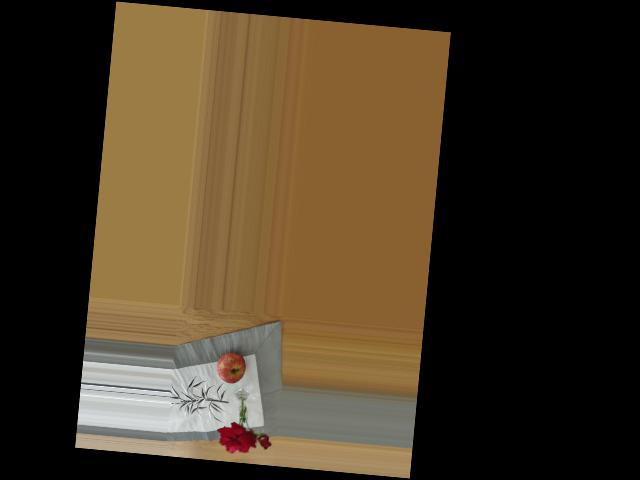apple: (214, 347, 250, 386)
